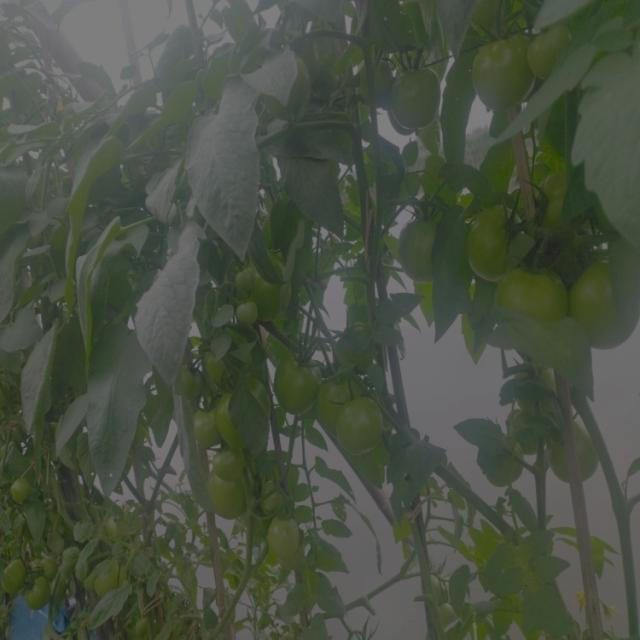tomato: (571, 262, 640, 351), (322, 377, 383, 449), (469, 38, 525, 110), (508, 266, 567, 329), (389, 66, 449, 124), (553, 423, 608, 483), (267, 55, 309, 122), (529, 27, 579, 81), (396, 214, 438, 278), (272, 358, 316, 418), (472, 212, 504, 282), (481, 438, 526, 486), (225, 395, 269, 443), (527, 361, 564, 412), (233, 266, 285, 301), (263, 517, 306, 559), (206, 478, 250, 514), (428, 569, 455, 625), (97, 559, 134, 597), (359, 57, 388, 104), (208, 448, 247, 475), (206, 350, 233, 386), (2, 559, 26, 599), (194, 406, 221, 439), (29, 580, 52, 612), (237, 303, 262, 332), (261, 485, 289, 510), (184, 363, 201, 396), (13, 475, 32, 503), (110, 512, 126, 539), (42, 557, 60, 575), (82, 573, 94, 590)
